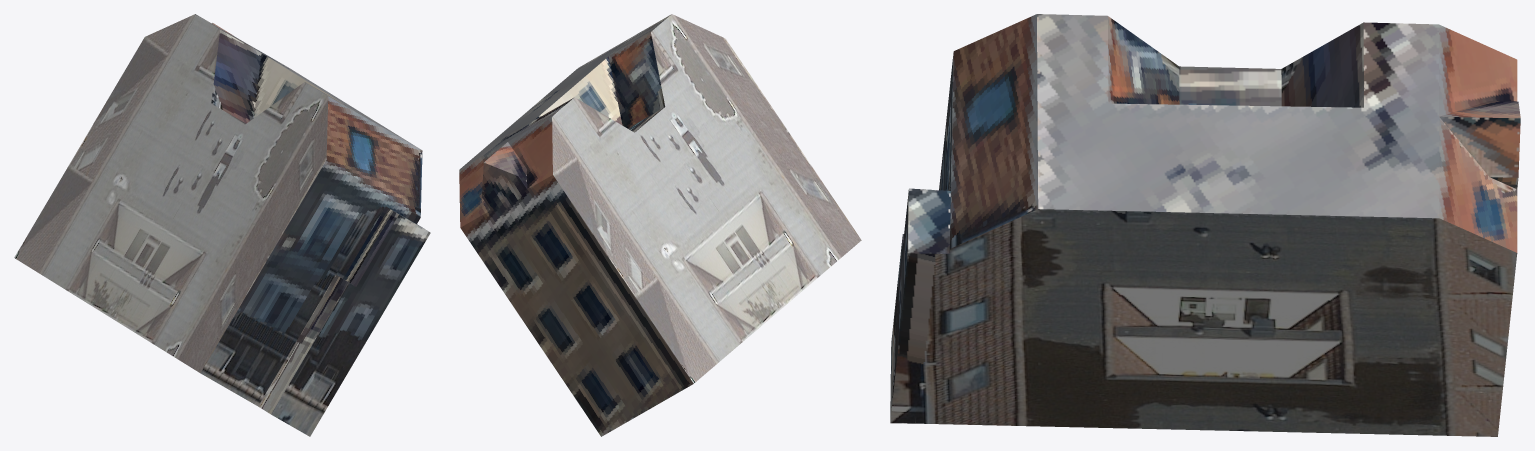
3 views of the same model, side by side, from view 1: azimuth 30°, elevation 25°; view 2: azimuth 150°, elevation 25°; view 3: azimuth 270°, elevation 25° (orthographic). The views are drawn at different scales.
Parts seen in each view (by area): view 1: BAG_0599100000670798 (×2); view 2: BAG_0599100000670798 (×2); view 3: BAG_0599100000670798 (×3).
Part boxes in pixels (x1,y1,x2,y2): BAG_0599100000670798 (×2): (14,14,430,436); BAG_0599100000670798 (×2): (459,14,861,436); BAG_0599100000670798 (×3): (890,14,1520,436).
Bounding box in the file's own units: 12.89 × 14.25 × 16.96.
1 material, 1 textured.
